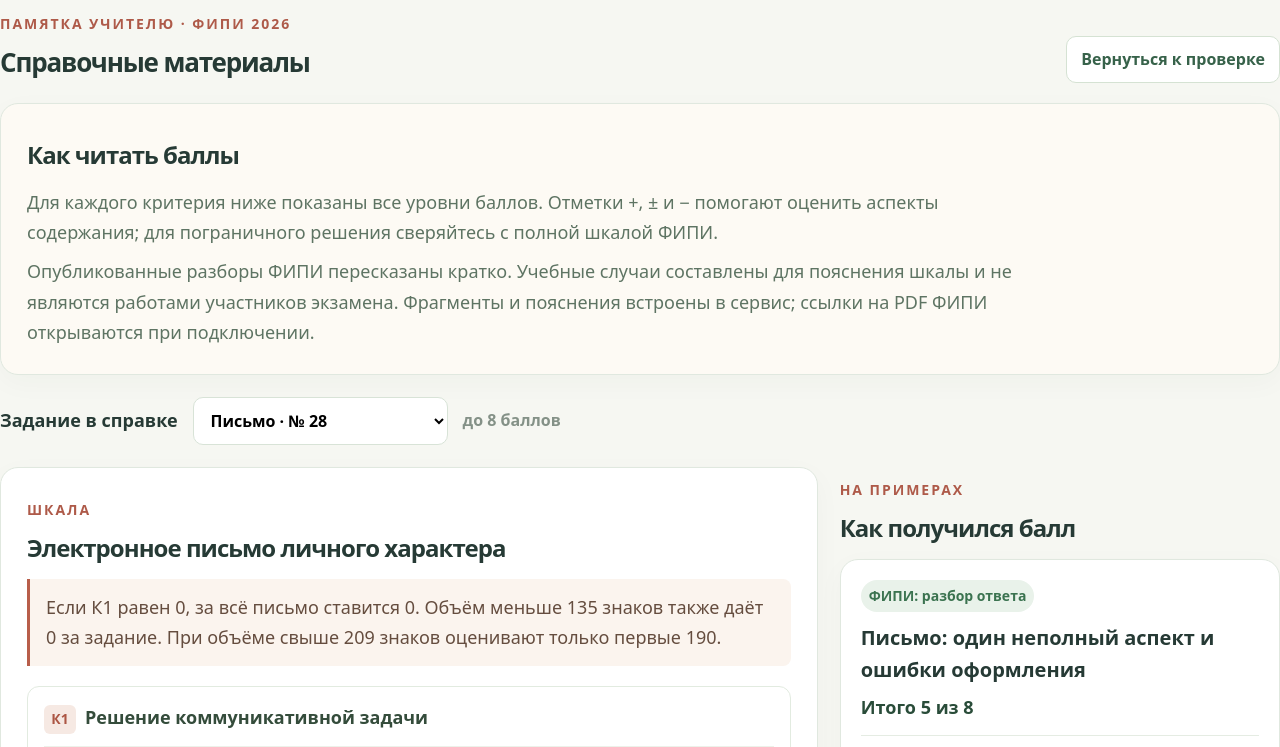
Scenario: worked examples › changes examples when the teacher selects another task
Select "Проект · задание 3" in the dropdown labelled "Задание в справке" at x=320, y=421, box [193,397,448,445]
(page scrolled)
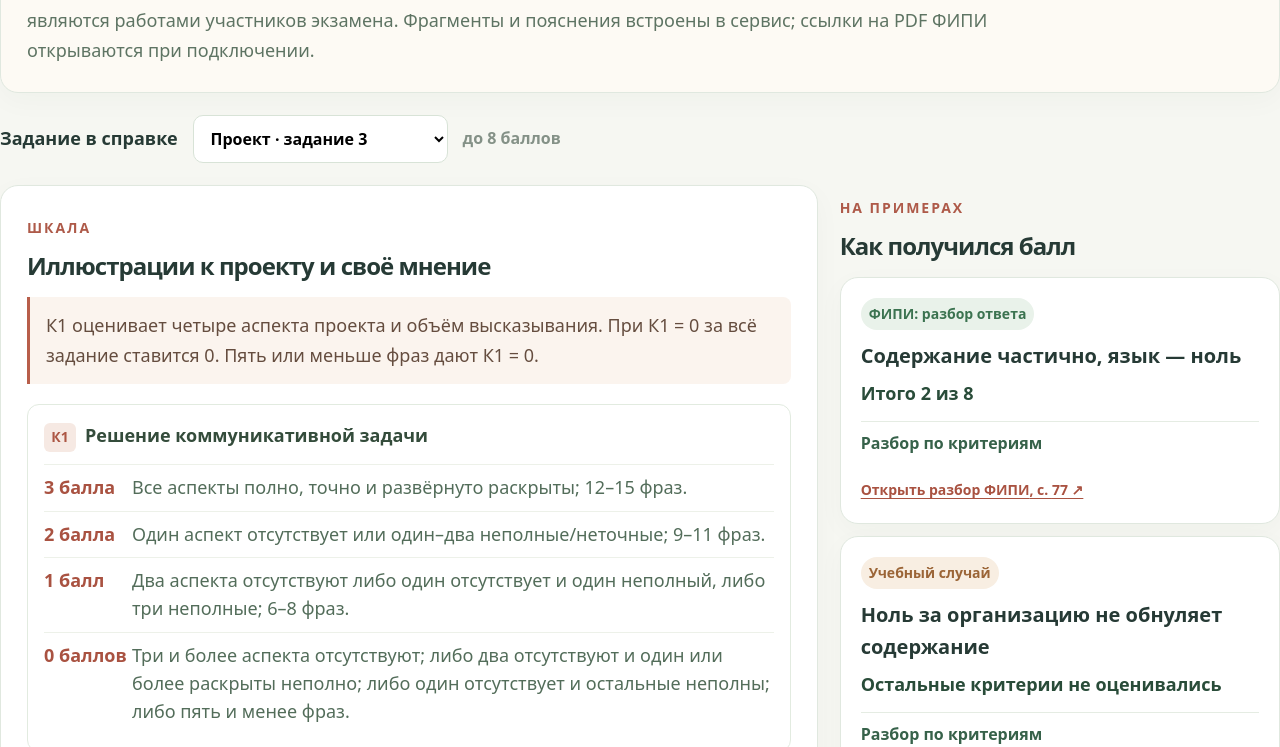
Expected: the element "Содержание частично, язык — ноль" is shown, [840,277,1279,524]
Expected: the heading "Письмо: один неполный аспект и ошибки оформления" is gone
